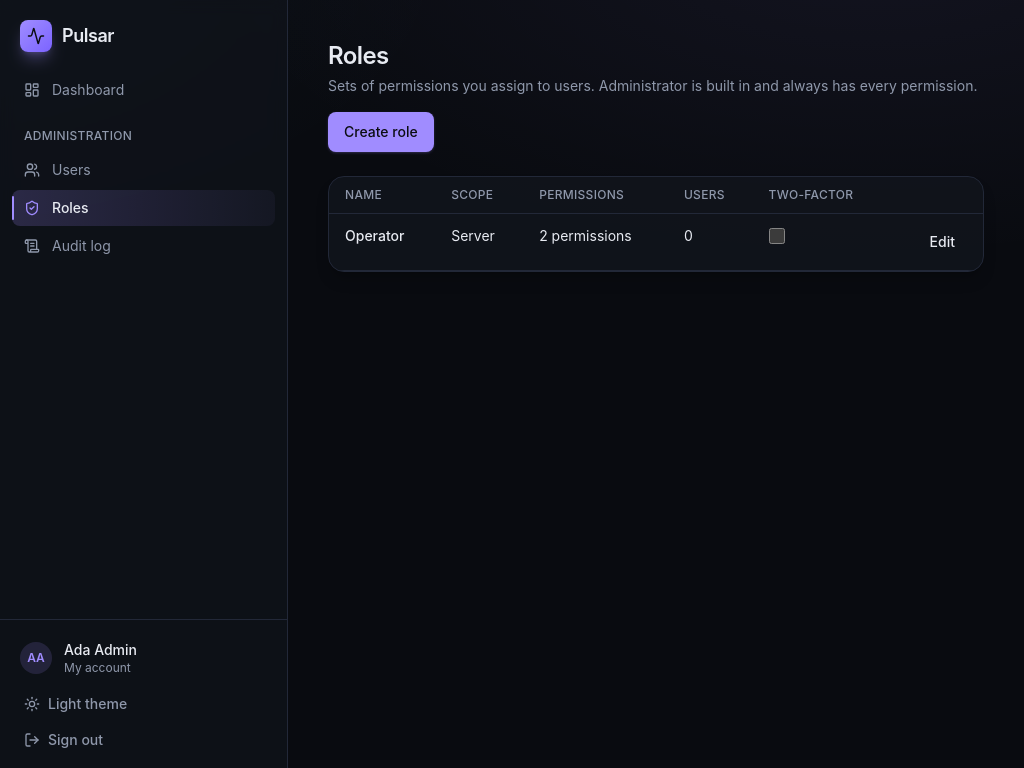
Scenario: editing a role › says the catalog could not be loaded, offers to try again and keeps Save off until it is
Click the button "Edit".
click(942, 242)  # box 918,226 -> 967,258
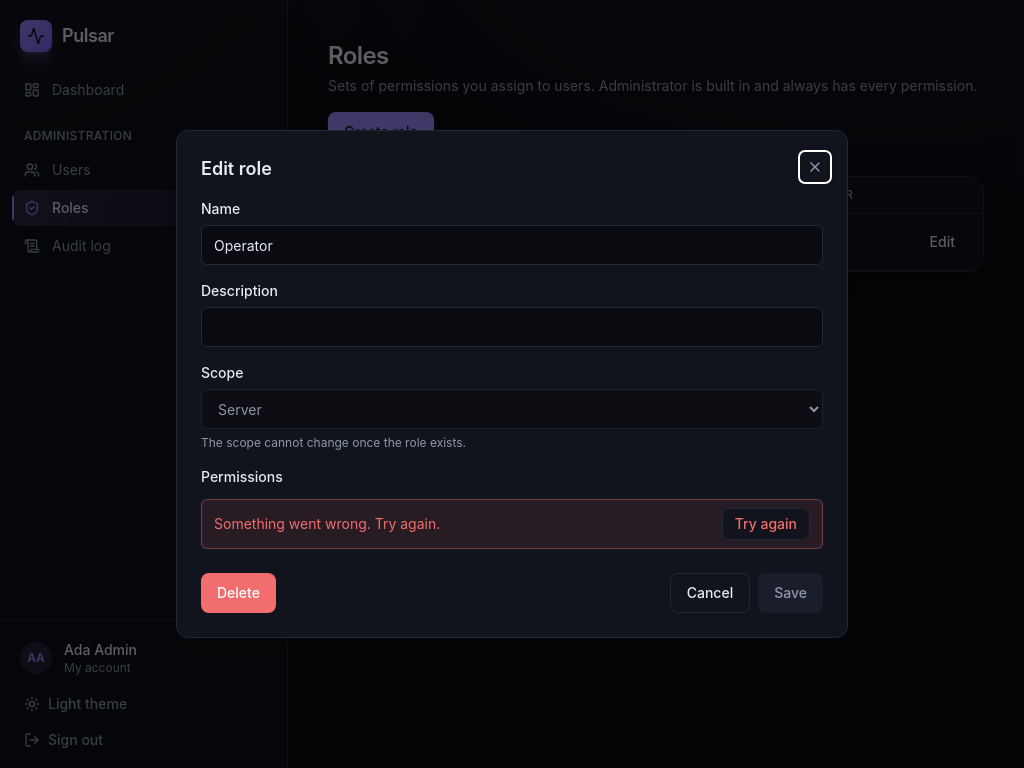
Now the message "Something went wrong. Try again. Try again" is shown, box 201,499 -> 823,549
Now the button "Save" is disabled, box 758,573 -> 823,613
Click the button "Try again".
click(766, 524)  # box 722,508 -> 810,540
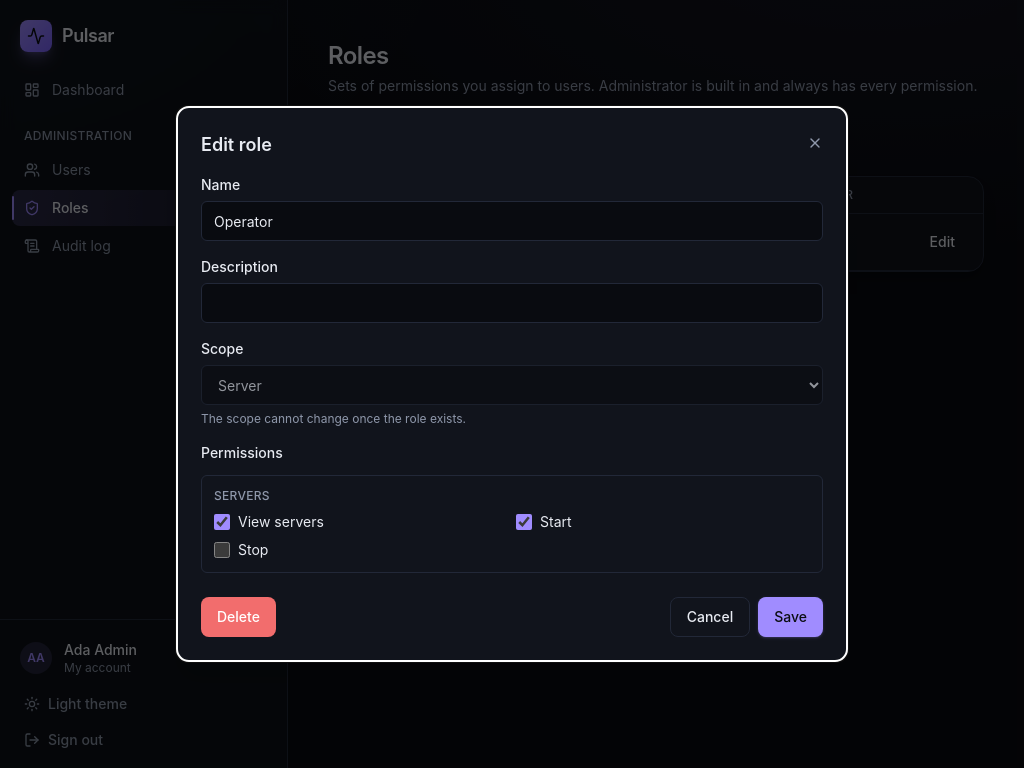
Now the button "Save" is enabled, box 758,597 -> 823,637
Now the message "Something went wrong. Try again. Try again" is gone
